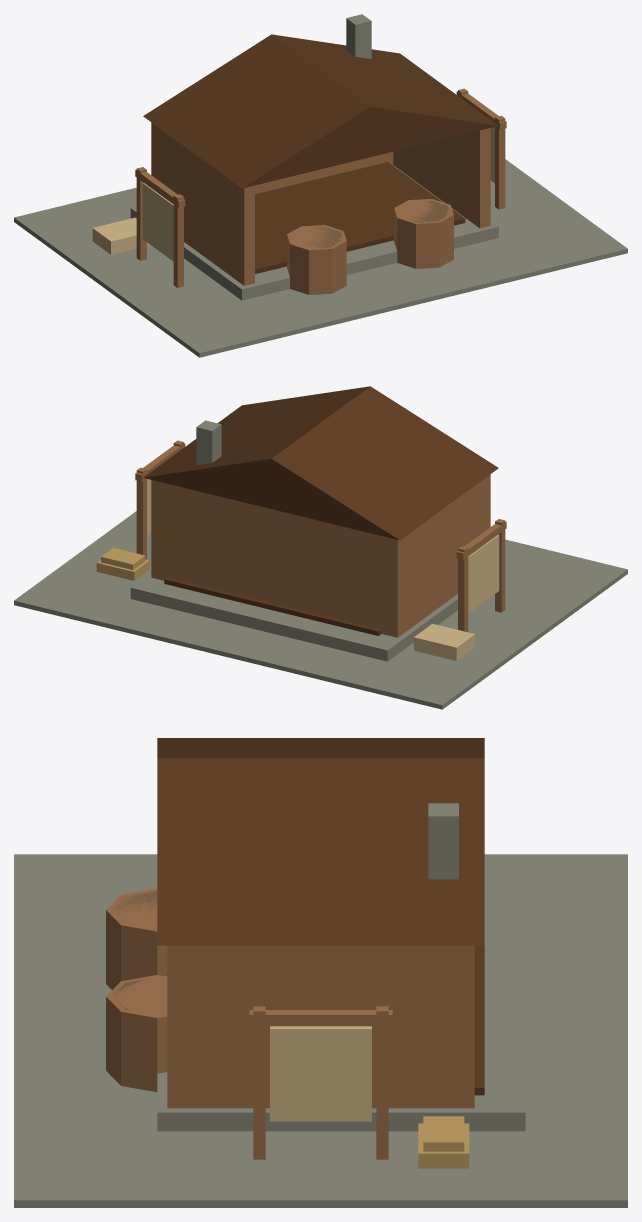
Rendered from tannery.glb.
3 renders of one model, top to bottom at view 1: azimuth 30°, elevation 25°; view 2: azimuth 150°, elevation 25°; view 3: azimuth 270°, elevation 25°, orthographic. The views are drawn at different scales.
Visible parts, largest first — view 1: Ground, Roof, Floor, Left_Wall, Right_Wall, Foundation, Vat1, Vat2, Hide_0, Back_Wall, RawHides, Chimney (+4 smaller); view 2: Roof, Ground, Back_Wall, Left_Wall, Foundation, Hide_0, Floor, RawHides, Chimney, Rack_Post2_1, Rack_Post2_0, Rack_Post1_0 (+4 smaller); view 3: Ground, Roof, Right_Wall, Foundation, Hide_1, Vat2, Vat1, Chimney, Rack_Bar_1, Rack_Post2_1, Rack_Post1_1, Floor (+2 smaller).
Part boxes in pixels (x1,y1,x2,y2): Ground: [14, 159, 627, 357]; Roof: [143, 34, 498, 188]; Floor: [255, 162, 465, 273]; Left_Wall: [151, 122, 254, 285]; Right_Wall: [393, 128, 490, 228]; Foundation: [130, 165, 498, 300]; Vat1: [287, 225, 346, 294]; Vat2: [394, 199, 453, 268]; Hide_0: [142, 183, 173, 261]; Back_Wall: [255, 152, 393, 194]; RawHides: [92, 217, 150, 254]; Chimney: [346, 14, 371, 58]; Roof: [143, 386, 498, 540]; Ground: [14, 511, 627, 709]; Back_Wall: [156, 481, 392, 634]; Left_Wall: [387, 474, 490, 637]; Foundation: [130, 573, 457, 661]; Hide_0: [468, 534, 499, 613]; Floor: [164, 577, 381, 635]; RawHides: [414, 623, 475, 660]; Chimney: [196, 420, 221, 465]; Rack_Post2_1: [136, 467, 146, 559]; Rack_Post2_0: [458, 546, 468, 632]; Rack_Post1_0: [495, 519, 505, 612]; Ground: [14, 854, 627, 1207]; Roof: [157, 738, 484, 945]; Right_Wall: [167, 945, 474, 1108]; Foundation: [157, 905, 525, 1131]; Hide_1: [270, 1026, 371, 1121]; Vat2: [106, 975, 167, 1092]; Vat1: [106, 888, 167, 989]; Chimney: [428, 803, 458, 879]; Rack_Bar_1: [249, 1010, 392, 1026]; Rack_Post2_1: [376, 1006, 388, 1159]; Rack_Post1_1: [253, 1006, 265, 1159]; Floor: [474, 945, 484, 1095].
Bounding box in the file's own units: 4 × 1.54 × 3.
